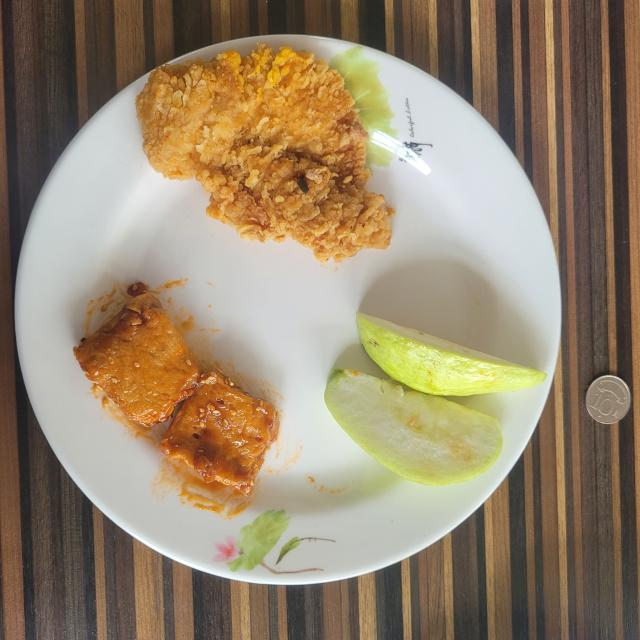coin: (585, 375, 631, 424)
creamy tofu: (74, 282, 279, 496)
fried chicken cutlet: (136, 44, 392, 261)
guava -sliced-: (325, 312, 546, 485)
